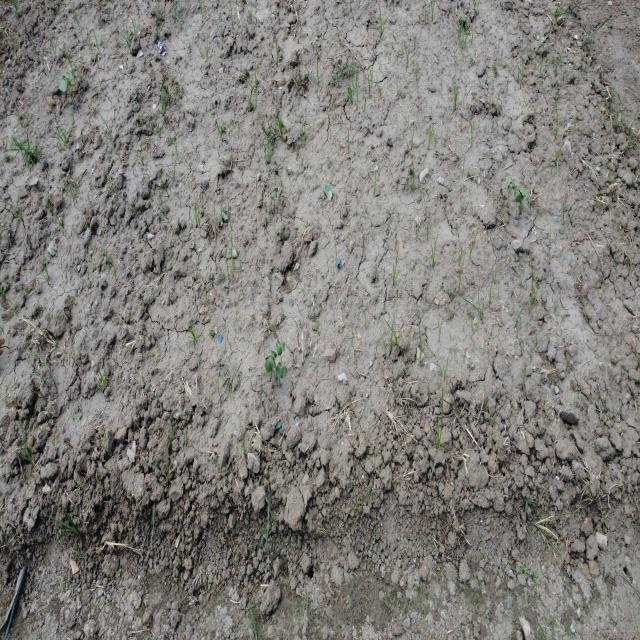seedling: (265, 356, 275, 373), (276, 365, 287, 378), (62, 69, 74, 80), (265, 348, 275, 360), (514, 188, 522, 202), (59, 79, 67, 92), (276, 342, 282, 355), (278, 340, 285, 351), (504, 181, 513, 189), (509, 182, 515, 192), (520, 194, 525, 206), (519, 189, 525, 197)
